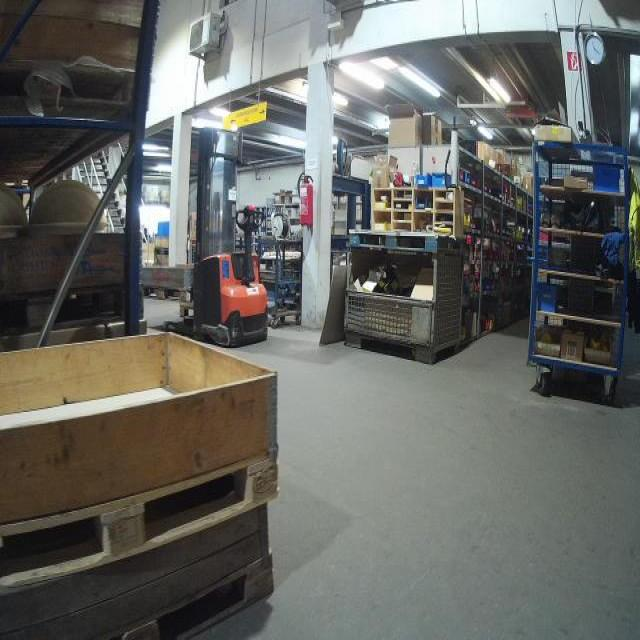pallet: (1, 440, 283, 595)
pallet_truck: (161, 121, 273, 352)
small_load_carrier: (594, 161, 622, 195), (534, 284, 561, 311)
stillage: (343, 244, 467, 366)
